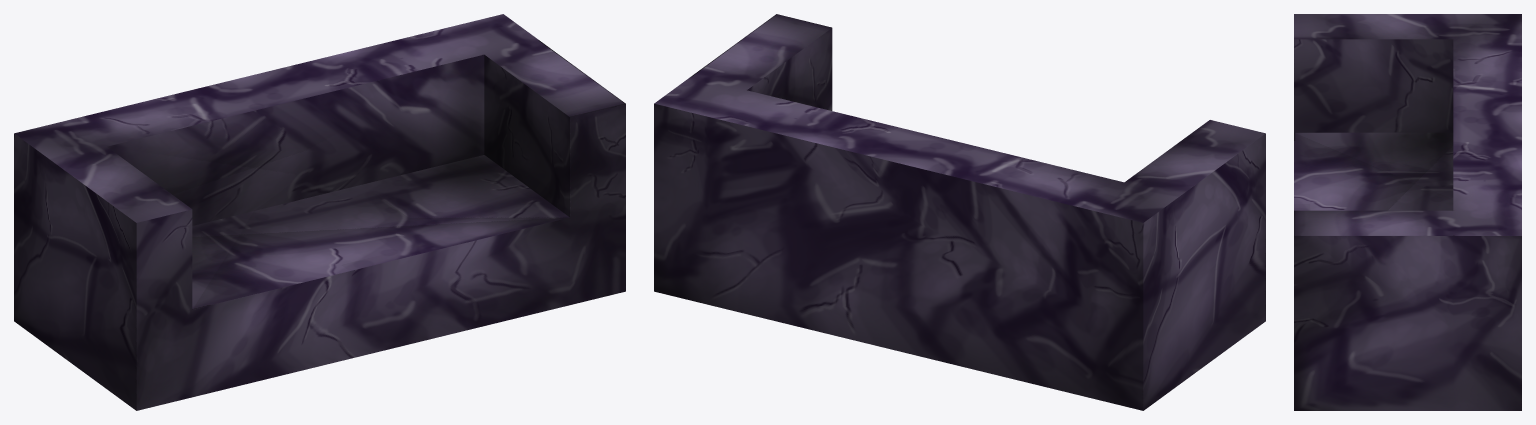
File: bench.obj
3 views of the same model, side by side, from view 1: azimuth 30°, elevation 25°; view 2: azimuth 150°, elevation 25°; view 3: azimuth 270°, elevation 25° (orthographic). The views are drawn at different scales.
Parts seen in each view (by area): view 1: Banco_Cube.003; view 2: Banco_Cube.003; view 3: Banco_Cube.003.
Part boxes in pixels (x1,y1,x2,y2): Banco_Cube.003: [14, 14, 625, 410]; Banco_Cube.003: [654, 14, 1265, 410]; Banco_Cube.003: [1294, 14, 1521, 410].
Bounding box in the file's own units: 3.82 × 1.4 × 1.65.
